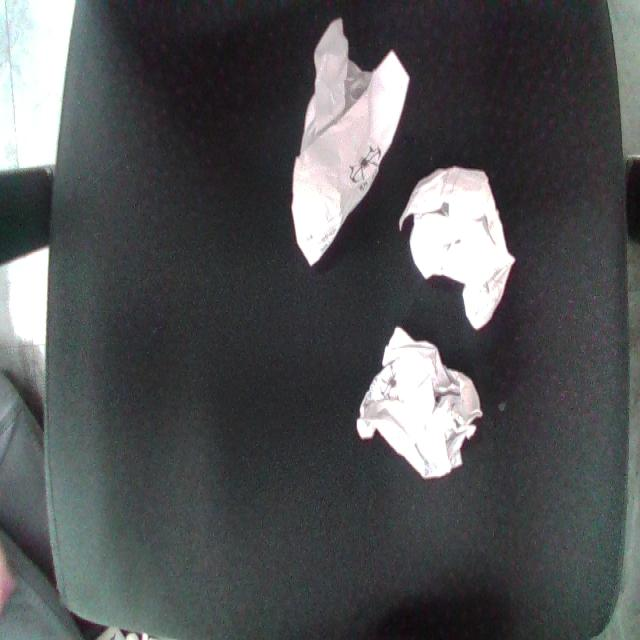paper: (277, 14, 435, 286), (364, 136, 554, 344), (342, 303, 503, 483)
